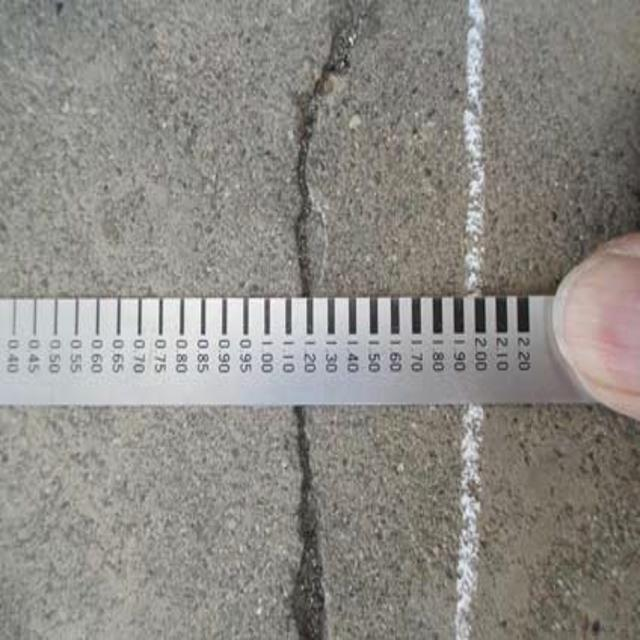crack: (277, 16, 346, 296), (266, 417, 347, 640)
